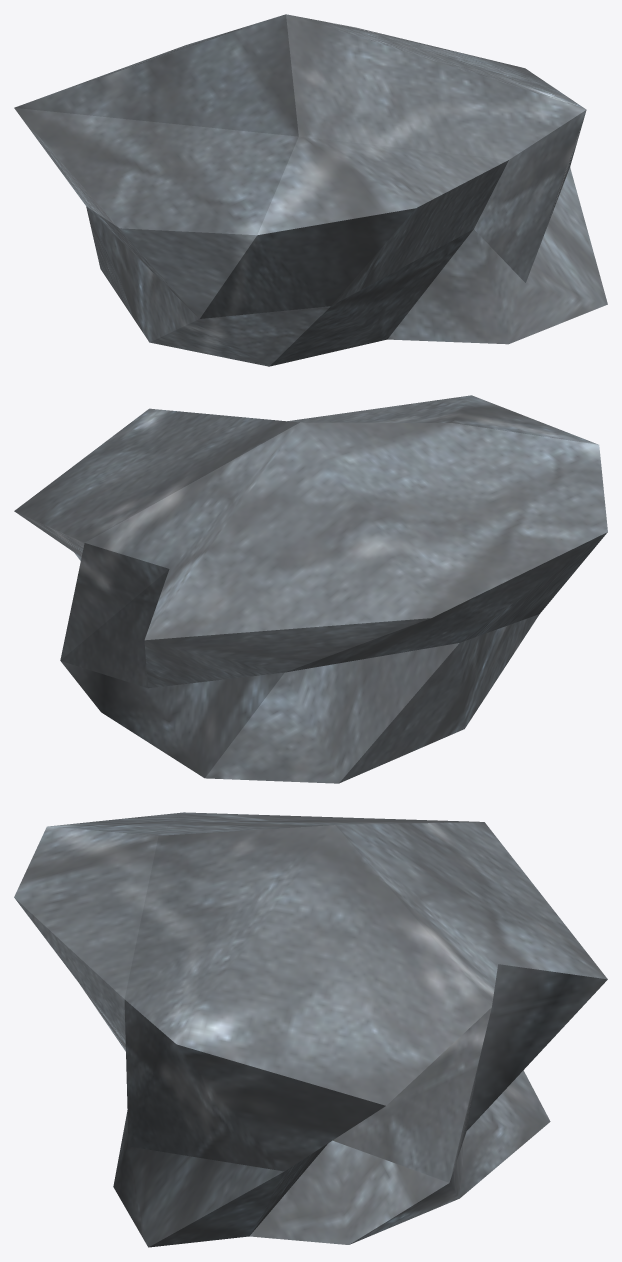
File: RockG.fbx
3 renders of one model, top to bottom at view 1: azimuth 30°, elevation 25°; view 2: azimuth 150°, elevation 25°; view 3: azimuth 270°, elevation 25°, orthographic. The views are drawn at different scales.
Visible parts, largest first — view 1: RockG; view 2: RockG; view 3: RockG.
Part boxes in pixels (box(x1,y1,x2,y2)): RockG: box(14, 14, 607, 366); RockG: box(14, 395, 607, 783); RockG: box(14, 812, 607, 1247).
Bounding box in the file's own units: 342 × 185 × 331.
